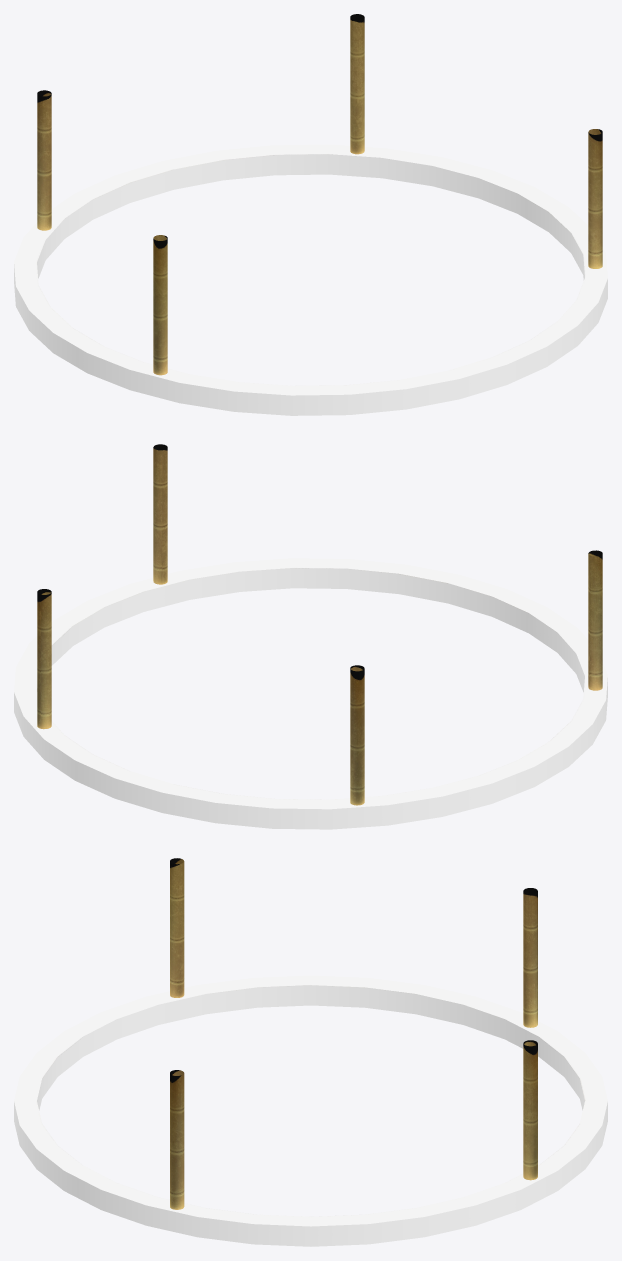
File: Big Light.glb
3 views of the same model, one above another, from view 1: azimuth 30°, elevation 25°; view 2: azimuth 150°, elevation 25°; view 3: azimuth 270°, elevation 25° (orthographic).
Visible parts, largest first — view 1: Big Light.001; view 2: Big Light.001; view 3: Big Light.001.
Boxes of the visible parts, x1=… form: Big Light.001: x1=14, y1=14, x2=607, y2=415; Big Light.001: x1=14, y1=444, x2=607, y2=829; Big Light.001: x1=14, y1=858, x2=607, y2=1246.
Bounding box in the file's own units: 10.72 × 3.07 × 10.72.
Materials: 1 (1 with a texture image).
